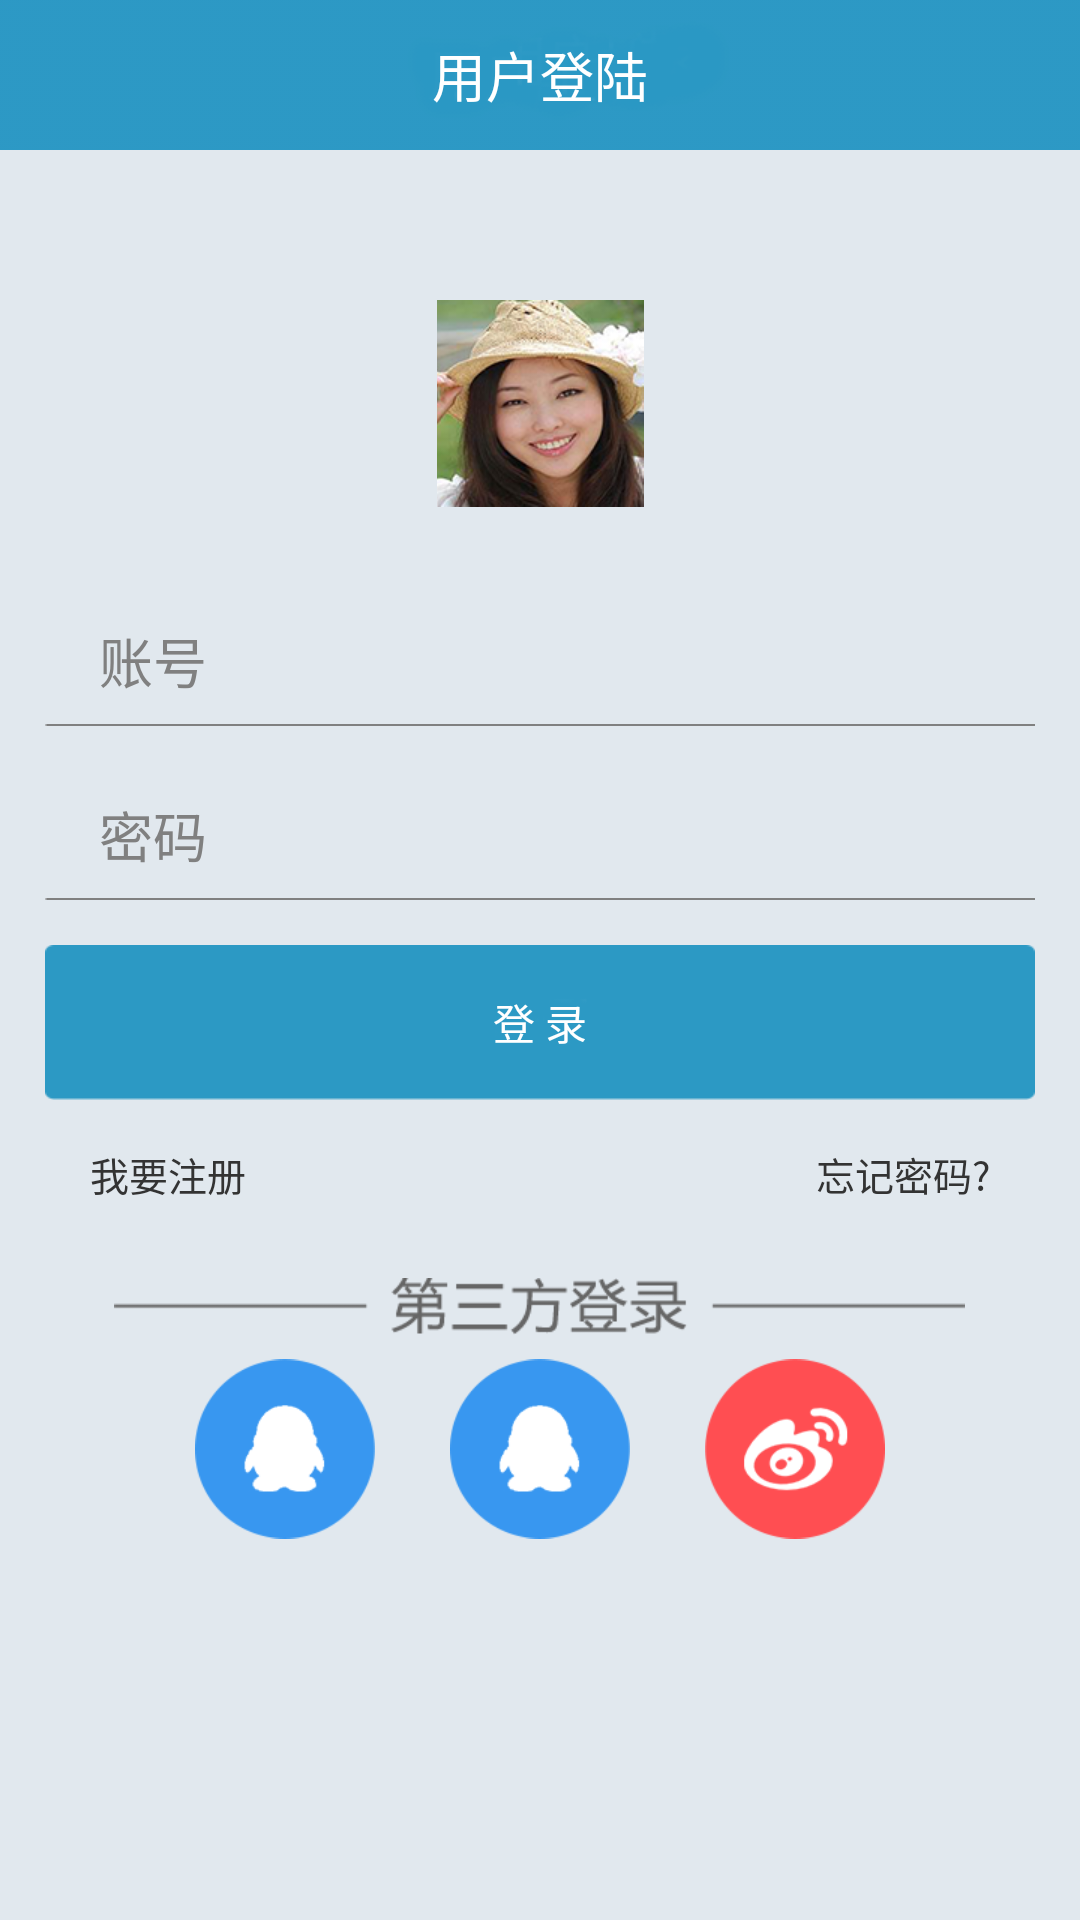

Named icons in this screenshot (1080w x 1920h) and their bounding boxes, (x1, y1, x2, y2):
head: (437, 300, 644, 507)
